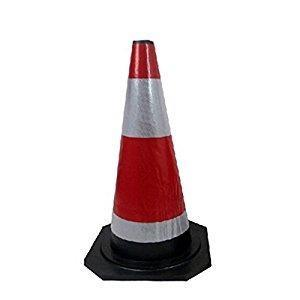cone_barrel: (94, 39, 201, 267)
